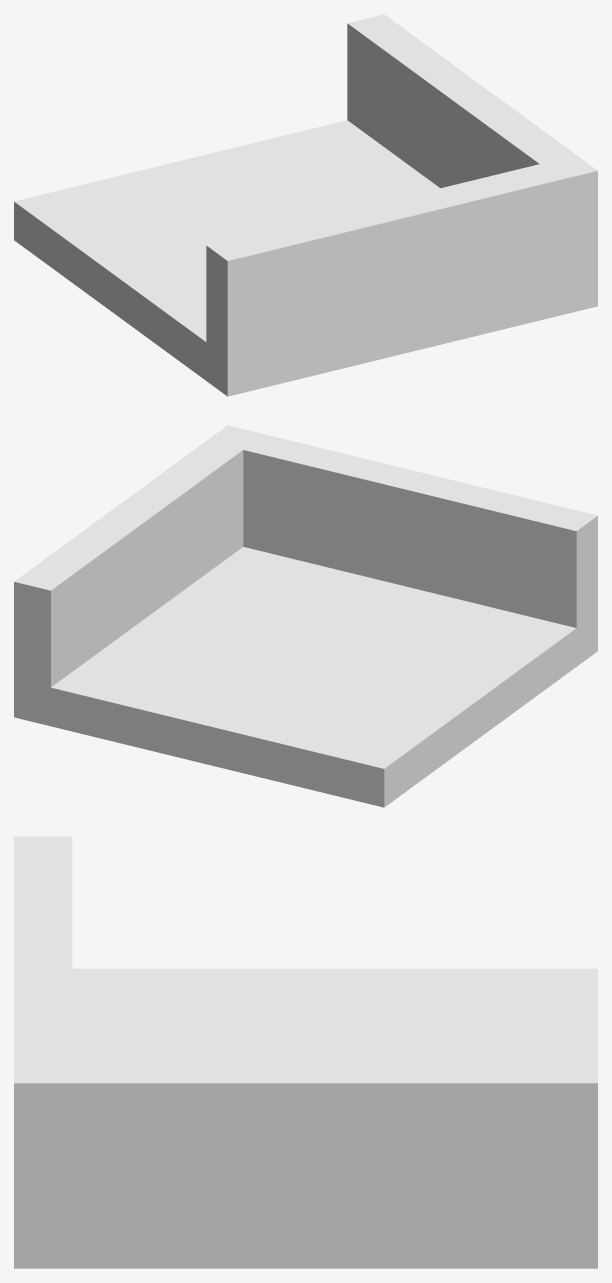
The model's file is WhiteRoof_Corner_Small.glb.
3 views of the same model, one above another, from view 1: azimuth 30°, elevation 25°; view 2: azimuth 150°, elevation 25°; view 3: azimuth 270°, elevation 25° (orthographic). The views are drawn at different scales.
Parts seen in each view (by area): view 1: roof_flat_corner_small_white; view 2: roof_flat_corner_small_white; view 3: roof_flat_corner_small_white.
Boxes of the visible parts, box(x1,y1,x2,y2) form: roof_flat_corner_small_white: box(14, 14, 597, 396); roof_flat_corner_small_white: box(14, 425, 597, 807); roof_flat_corner_small_white: box(14, 836, 597, 1268).
Size of what is drawn, in the model's own units: 2 by 0.7 by 2.
Materials: 1 (1 with a texture image).
